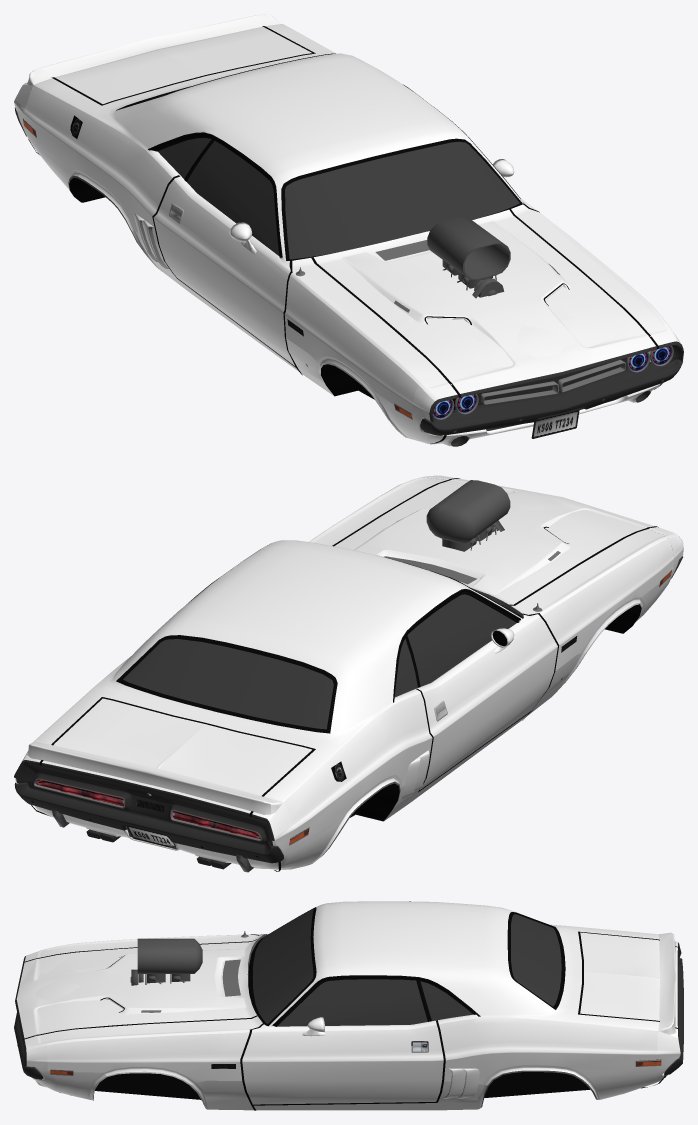
File: Dodge_Challenger.FBX
3 renders of one model, top to bottom at view 1: azimuth 30°, elevation 25°; view 2: azimuth 150°, elevation 25°; view 3: azimuth 270°, elevation 25°, orthographic. The views are drawn at different scales.
Parts seen in each view (by area): view 1: Object001; view 2: Object001; view 3: Object001.
Part boxes in pixels (box(x1,y1,x2,y2)): Object001: box(14, 14, 683, 446); Object001: box(14, 475, 683, 872); Object001: box(14, 901, 683, 1110).
Size of the model in its own units: 1.89 by 1.12 by 4.91.
10 materials, 4 textured.
